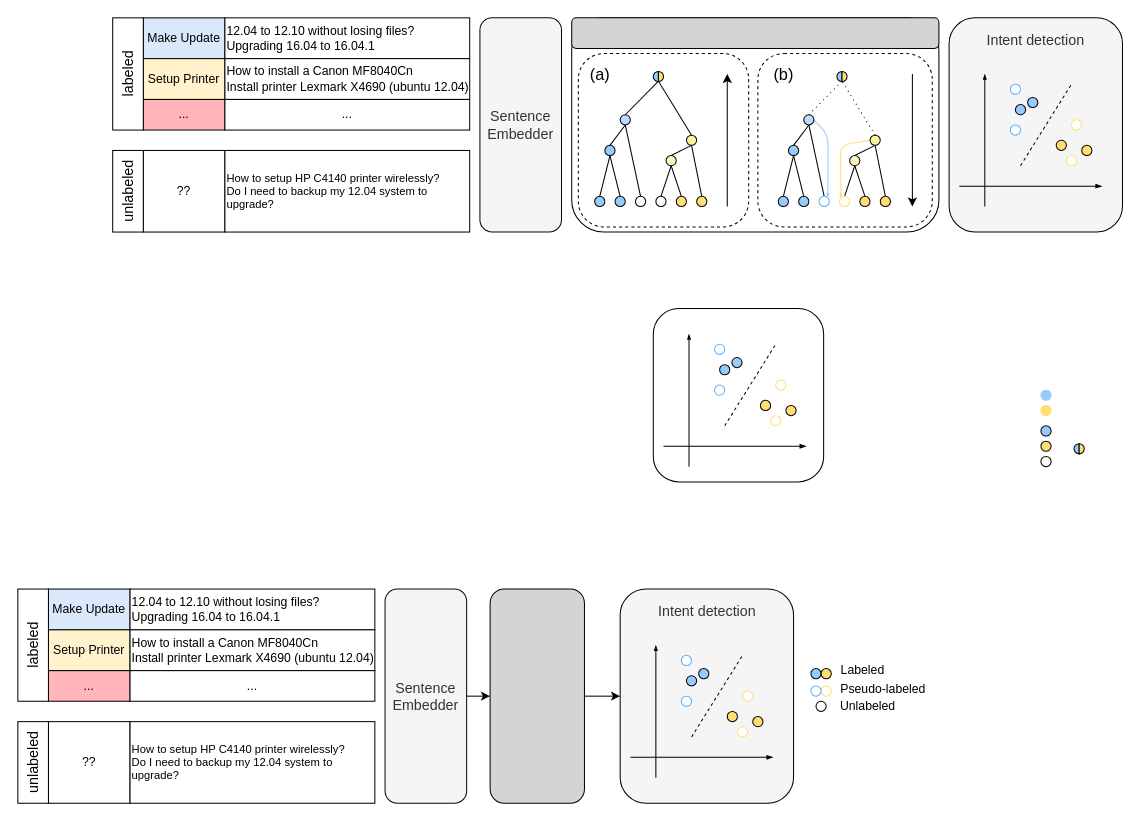
The diagram is 1140 pixels wide and 821 high, and some of its shapes have lost their labels. The shapes that lost their labels are listed below. From the top down, each one's box as (x1, y1, x2, y2) in pixels, then its label:
(571, 17, 939, 48): Two-Fold Pseudo-labeling
(489, 588, 584, 803): Pseudo-Labeling: Generate pseudo-labels on unlabeled data
